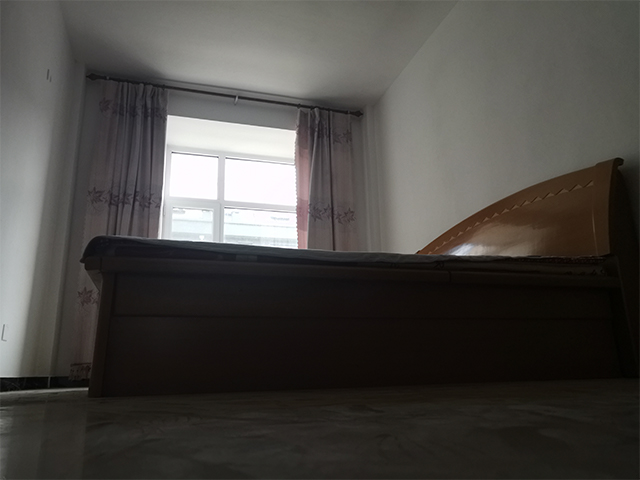bed: (78, 154, 640, 396)
curtain: (67, 78, 170, 384), (294, 101, 373, 253)
